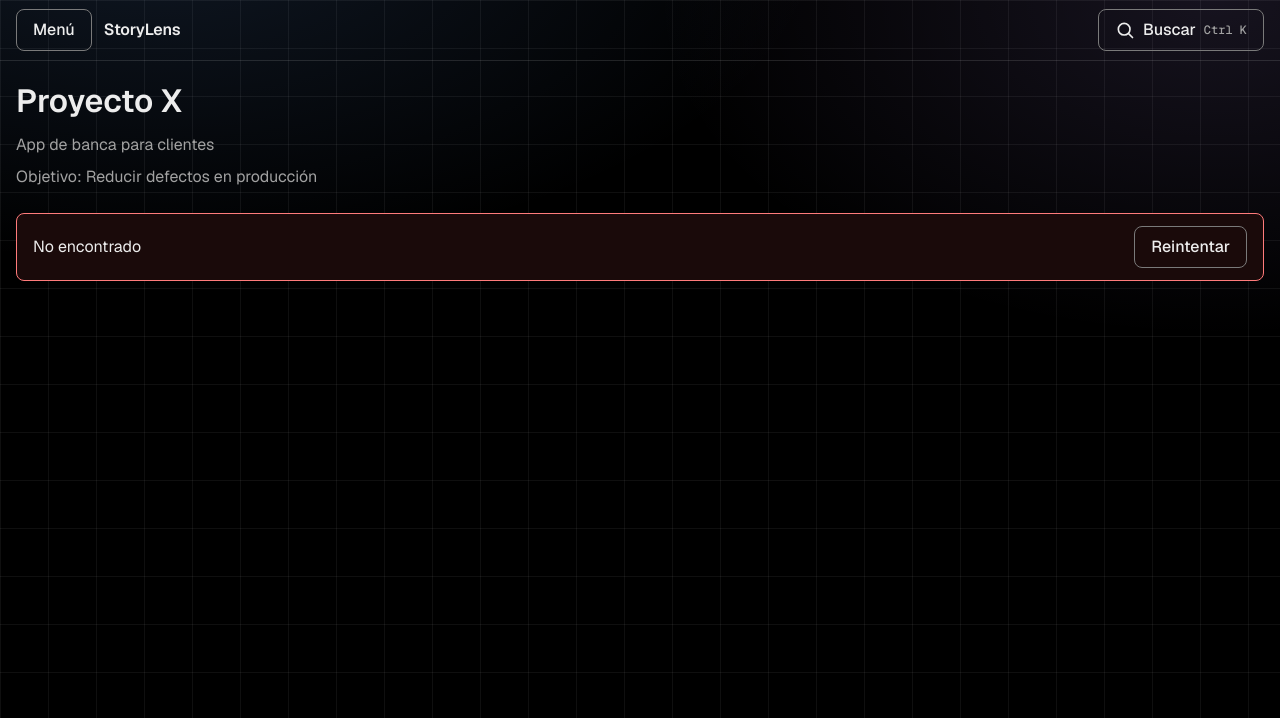
Test: Shell › por debajo de 768 px la barra lateral se colapsa a un botón Menú
What coordinates should you click on to do the following:
click the button "Menú"
I would click on:
 (54, 30)
Its box is [16,9,92,51].
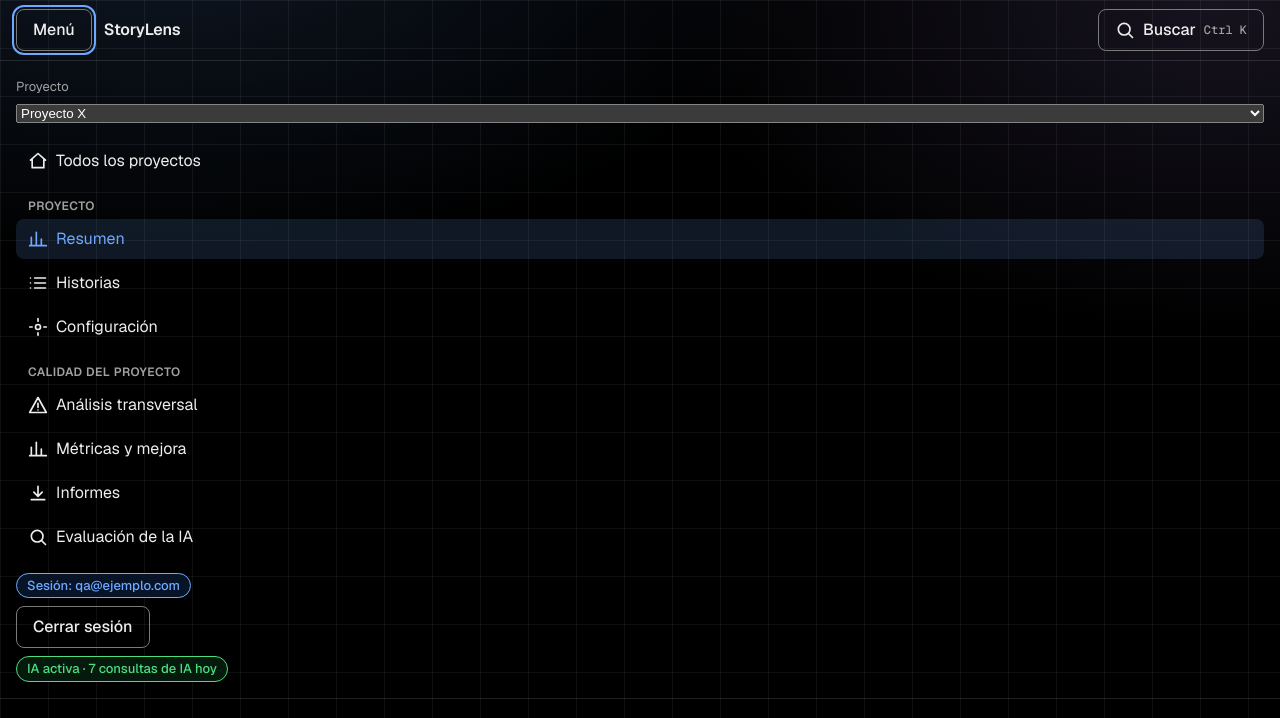
Expected: the navigation bar named "Módulos" is shown, [16,140,1264,556]
